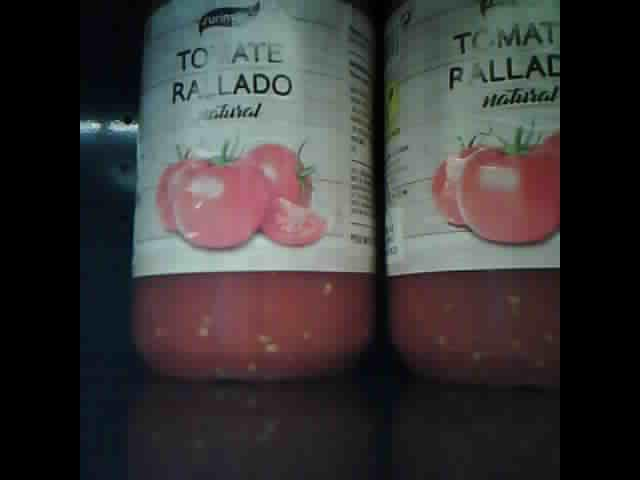tomate: (134, 2, 374, 381), (389, 3, 559, 385)
